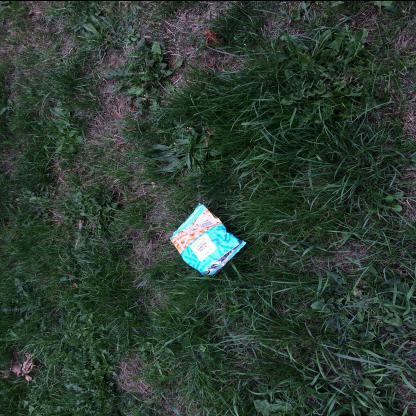plastik: (170, 203, 246, 275)
